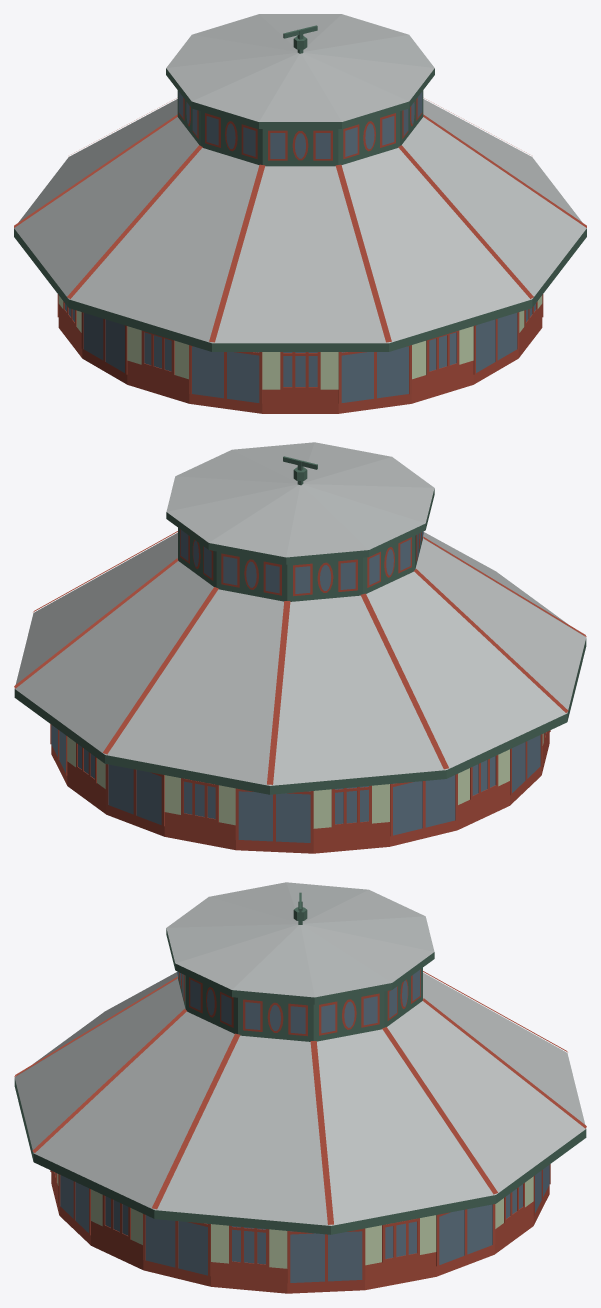
The model's file is ral-pullen-park-carousel.glb.
3 renders of one model, top to bottom at view 1: azimuth 30°, elevation 25°; view 2: azimuth 150°, elevation 25°; view 3: azimuth 270°, elevation 25°, orthographic. The views are drawn at different scales.
Parts seen in each view (by area): view 1: Pullen Park Carousel; view 2: Pullen Park Carousel; view 3: Pullen Park Carousel.
Boxes of the visible parts, x1,y1,x2,y2 form: Pullen Park Carousel: [14, 14, 586, 413]; Pullen Park Carousel: [14, 442, 586, 853]; Pullen Park Carousel: [14, 882, 586, 1293].
Bounding box in the file's own units: 29.72 × 16.2 × 29.26.
